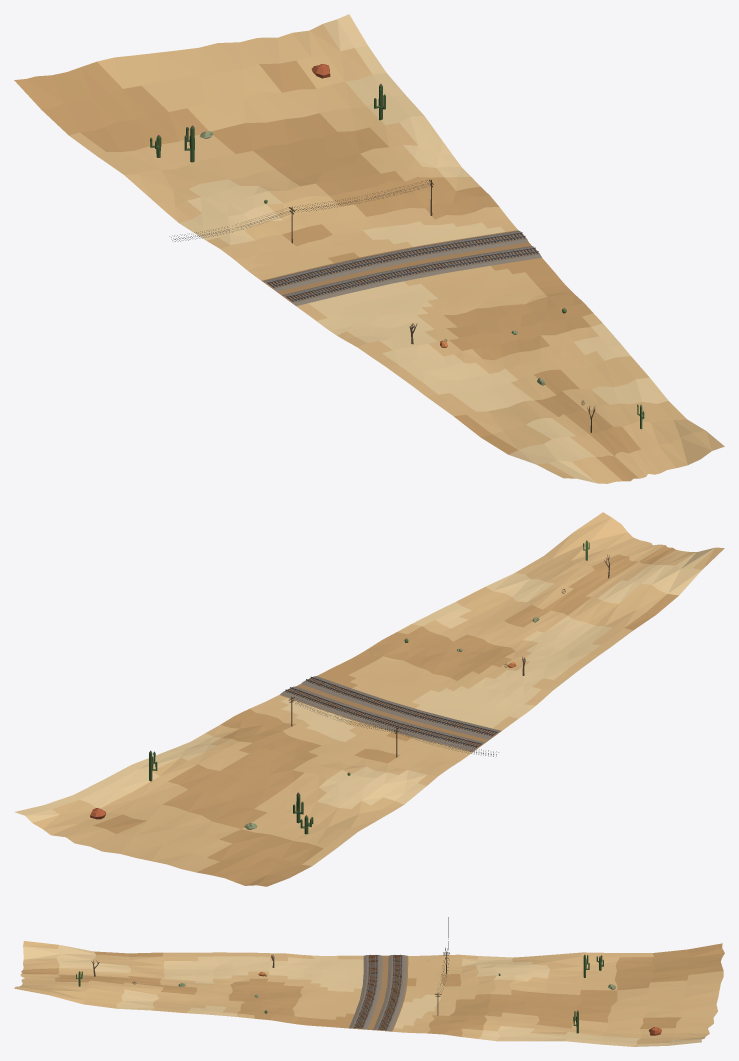
Rendered from SM_FG_Chunk_SideTrack_CurveR_A.fbx.
3 renders of one model, top to bottom at view 1: azimuth 30°, elevation 25°; view 2: azimuth 150°, elevation 25°; view 3: azimuth 270°, elevation 25°, orthographic. The views are drawn at different scales.
Parts seen in each view (by area): view 1: FG_Chunk_SideTrack_CurveR_A_Ground, FG_Chunk_SideTrack_CurveR_A_Track, FG_Chunk_SideTrack_CurveR_A_SceneryNear; view 2: FG_Chunk_SideTrack_CurveR_A_Ground, FG_Chunk_SideTrack_CurveR_A_Track, FG_Chunk_SideTrack_CurveR_A_SceneryNear; view 3: FG_Chunk_SideTrack_CurveR_A_Ground, FG_Chunk_SideTrack_CurveR_A_Track, FG_Chunk_SideTrack_CurveR_A_SceneryNear.
Part boxes in pixels (x1,y1,x2,y2): FG_Chunk_SideTrack_CurveR_A_Ground: (14,14,724,483); FG_Chunk_SideTrack_CurveR_A_Track: (263,230,541,305); FG_Chunk_SideTrack_CurveR_A_SceneryNear: (150,64,644,432); FG_Chunk_SideTrack_CurveR_A_Ground: (14,512,724,886); FG_Chunk_SideTrack_CurveR_A_Track: (280,676,501,751); FG_Chunk_SideTrack_CurveR_A_SceneryNear: (90,540,609,834); FG_Chunk_SideTrack_CurveR_A_Ground: (14,941,724,1046); FG_Chunk_SideTrack_CurveR_A_Track: (349,954,406,1031); FG_Chunk_SideTrack_CurveR_A_SceneryNear: (76,917,661,1035).
Bounding box in the file's own units: 7956 × 20351 × 809.
